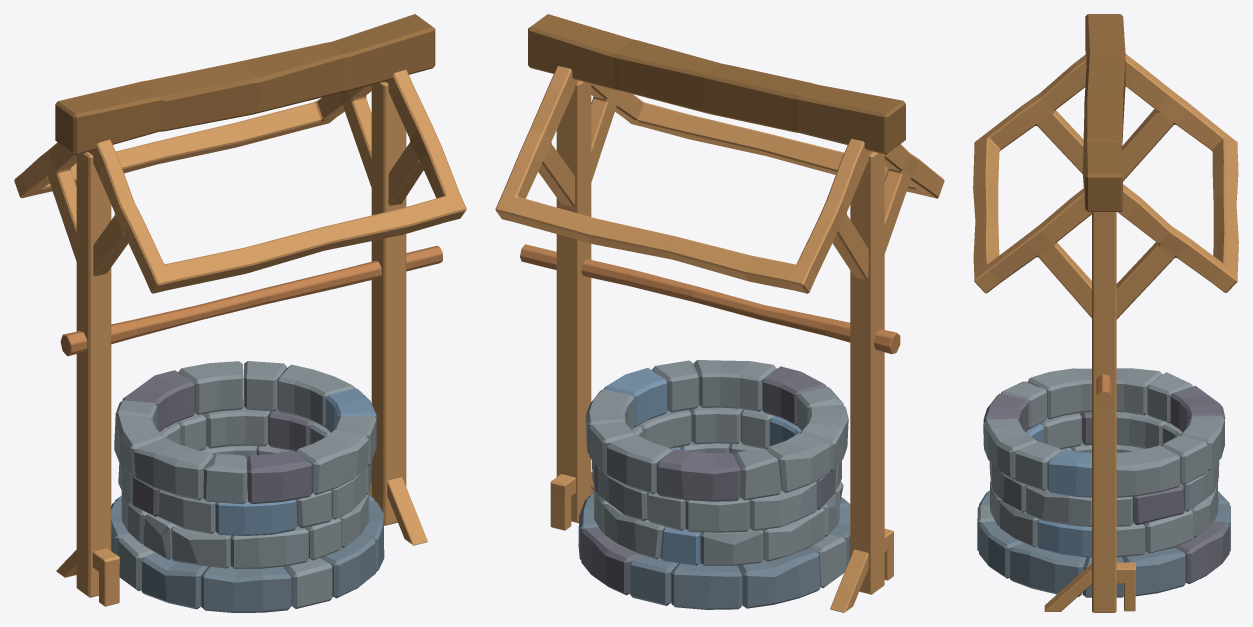
The model's file is lowpoly_well.fbx.
3 renders of one model, left to right at view 1: azimuth 30°, elevation 25°; view 2: azimuth 150°, elevation 25°; view 3: azimuth 270°, elevation 25°, orthographic. The views are drawn at different scales.
Visible parts, largest first — view 1: Cube.004, Cube.003, Cube, Cube.002, Cube.001; view 2: Cube.004, Cube.003, Cube, Cube.002, Cube.001; view 3: Cube.004, Cube.003, Cube.002, Cube, Cube.001.
Boxes of the visible parts, left/top/right/bottom form: Cube.004: left=14, top=14, right=466, bottom=606; Cube.003: left=114, top=361, right=376, bottom=504; Cube: left=111, top=480, right=384, bottom=612; Cube.002: left=118, top=399, right=371, bottom=535; Cube.001: left=121, top=443, right=369, bottom=568; Cube.004: left=495, top=14, right=944, bottom=612; Cube.003: left=585, top=360, right=848, bottom=501; Cube: left=578, top=492, right=850, bottom=609; Cube.002: left=592, top=404, right=841, bottom=532; Cube.001: left=594, top=441, right=843, bottom=565; Cube.004: left=973, top=14, right=1238, bottom=612; Cube.003: left=983, top=368, right=1225, bottom=497; Cube.002: left=989, top=412, right=1219, bottom=526; Cube: left=977, top=490, right=1230, bottom=597; Cube.001: left=990, top=441, right=1218, bottom=557.
Bounding box in the file's own units: 2105 × 2639 × 1408.
